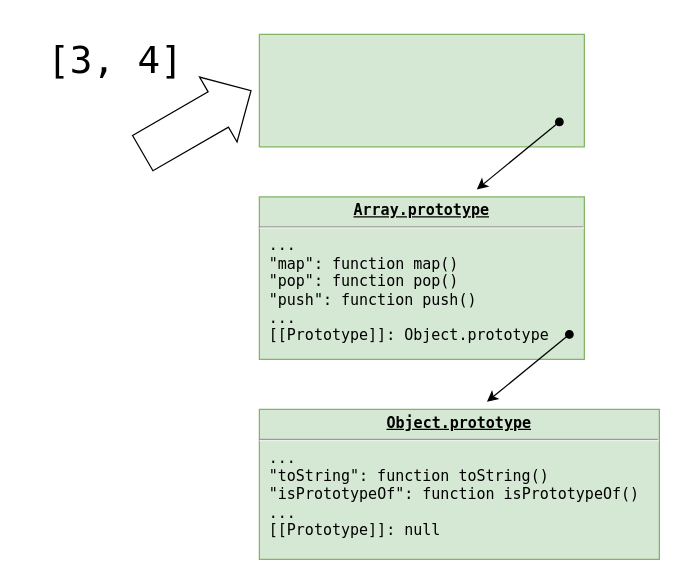
This 681x581 diagram has some shape labels left out. Here are the shapes that lost their labels. From the top down, the centre of each, then its label:
pixel 421 90: [3, 4] "0": 3 "1": 4 [[Prototype]]: Array.prototype
pixel 196 121: own properties
